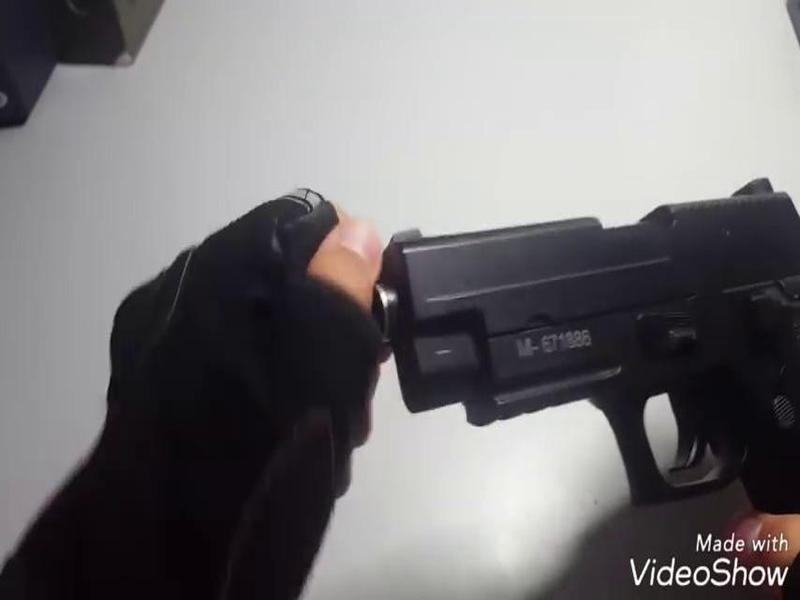Pistola: (365, 164, 800, 521)
